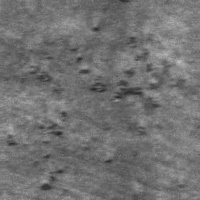rolled-in_scale: (75, 23, 191, 111), (5, 49, 71, 193)
